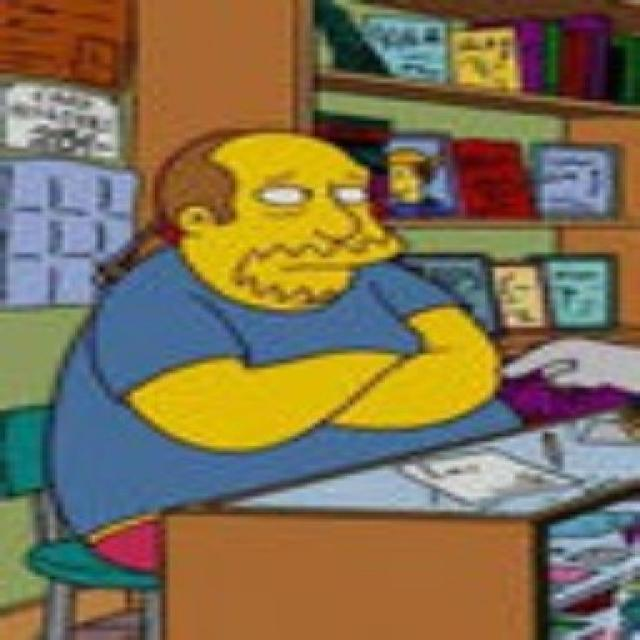Comic Book Guy: (136, 124, 414, 317)
